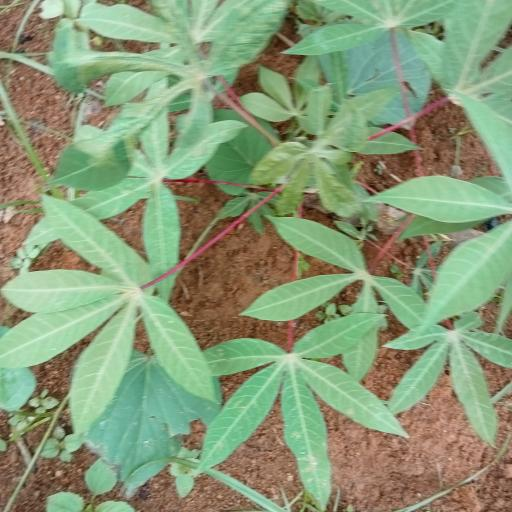Cassava_Mosaic: (48, 0, 292, 186), (202, 317, 390, 498)
